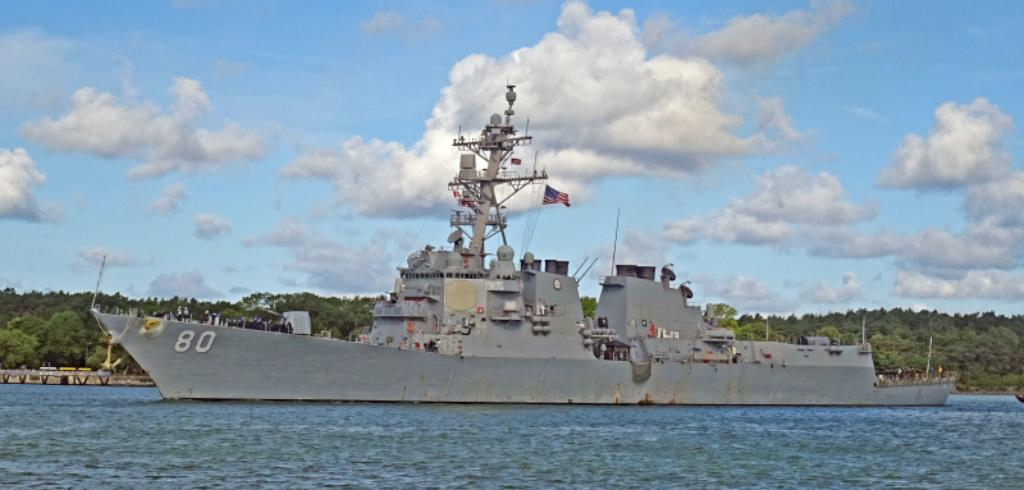Warship: (95, 82, 957, 404)
